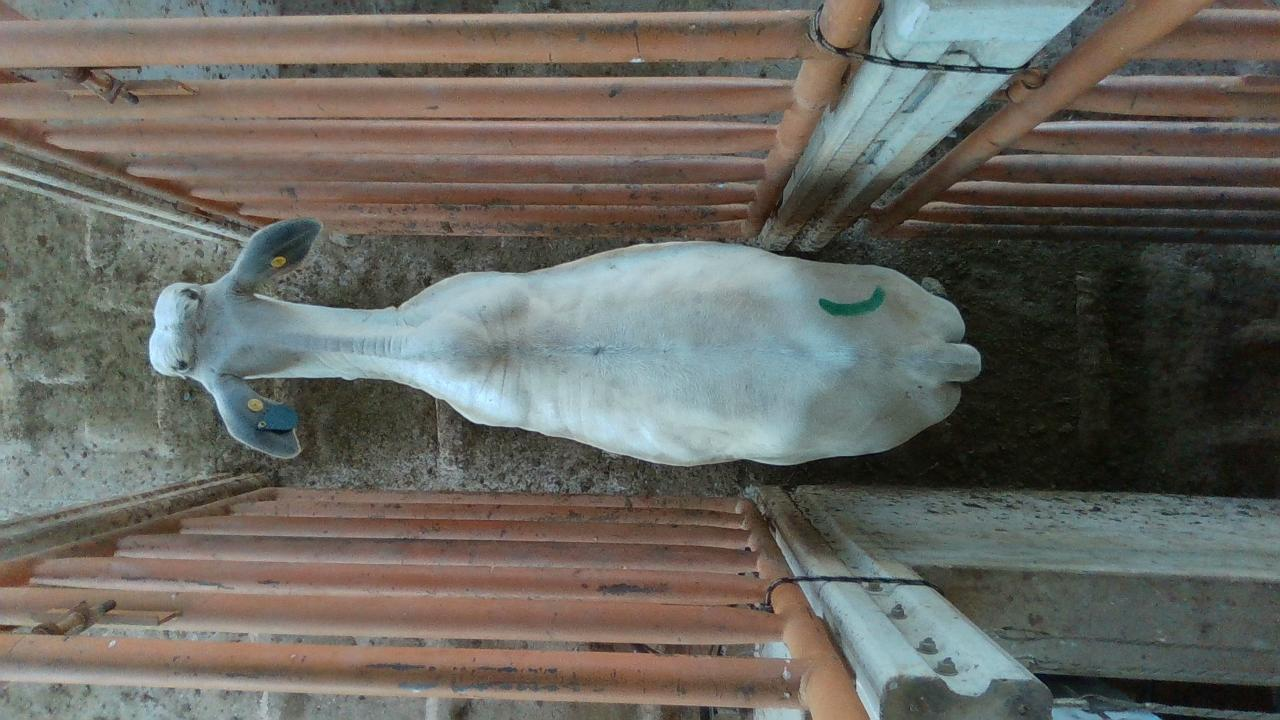cattle: (147, 214, 983, 468)
